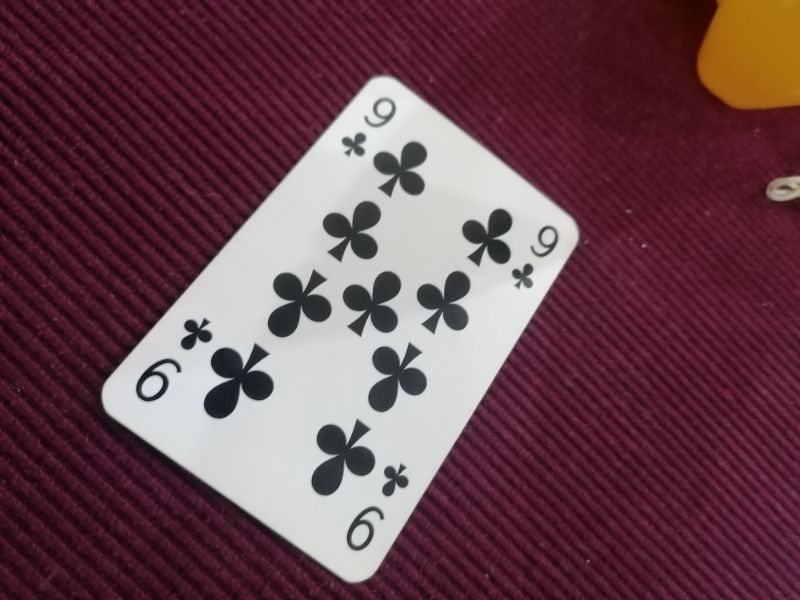9c: (132, 315, 216, 409), (343, 459, 416, 555), (338, 93, 401, 161), (509, 222, 567, 292)
